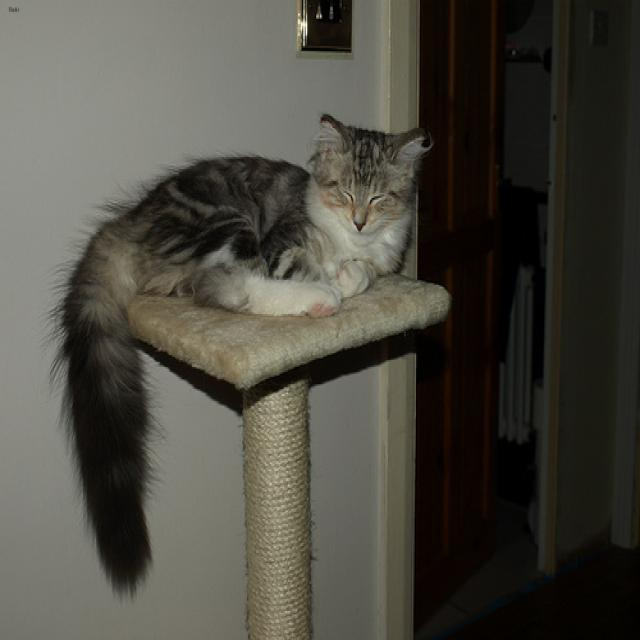Maine_Coon: (311, 111, 431, 244)
